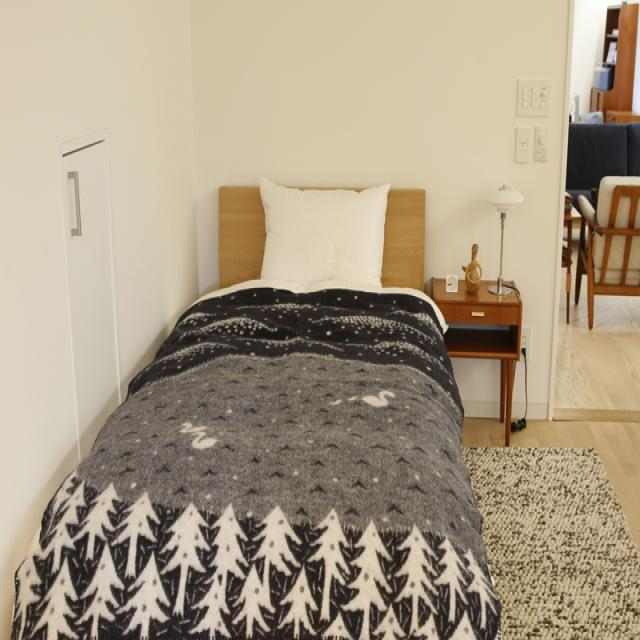bed vintage: (12, 175, 501, 640)
